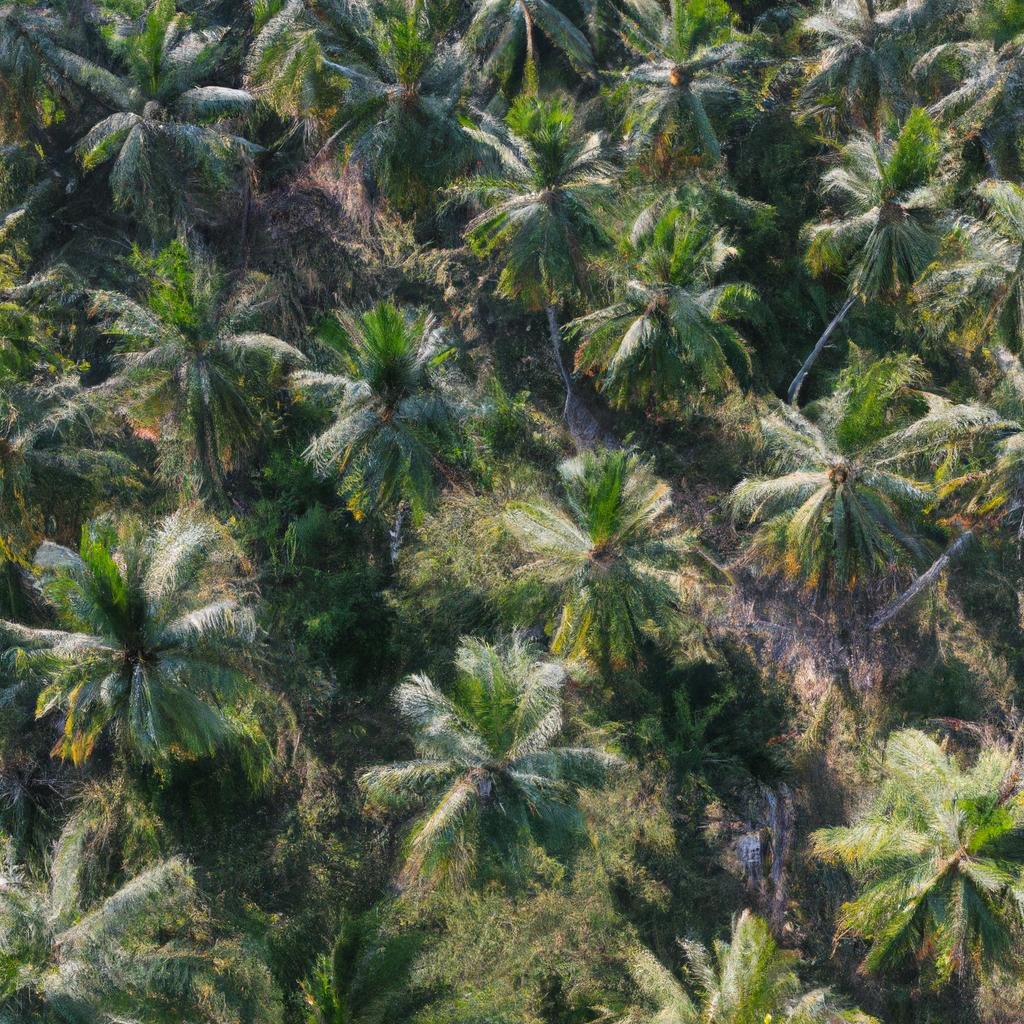coconut_tree: (2, 513, 291, 788), (369, 642, 637, 901), (818, 693, 1023, 985), (275, 289, 553, 502), (737, 379, 991, 595), (573, 196, 786, 416), (427, 94, 678, 272), (792, 116, 1010, 316), (71, 266, 300, 448)
